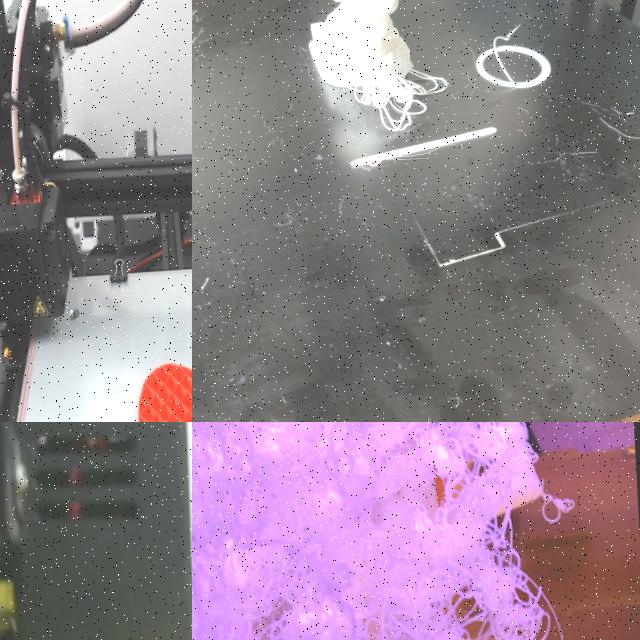spaghetti: (192, 422, 640, 640), (351, 65, 454, 139), (492, 24, 528, 98)
